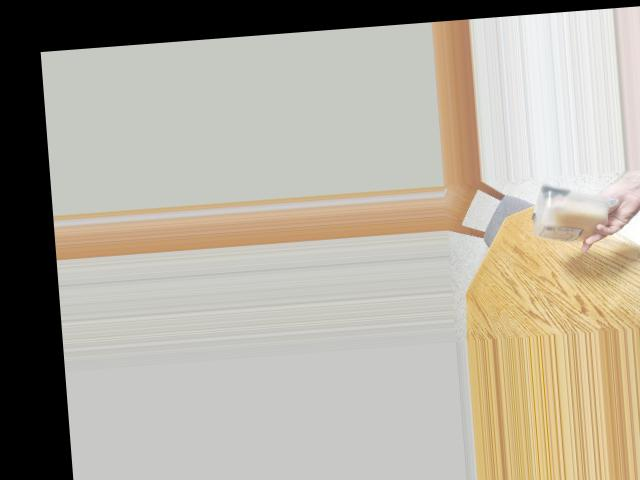cheese: (526, 181, 613, 248)
